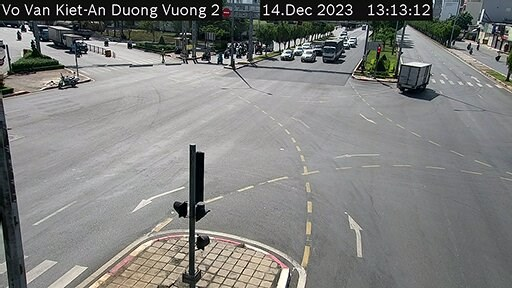car: (302, 48, 318, 65), (281, 47, 292, 63)
truck: (399, 57, 431, 94), (51, 25, 78, 48), (324, 35, 343, 65)
